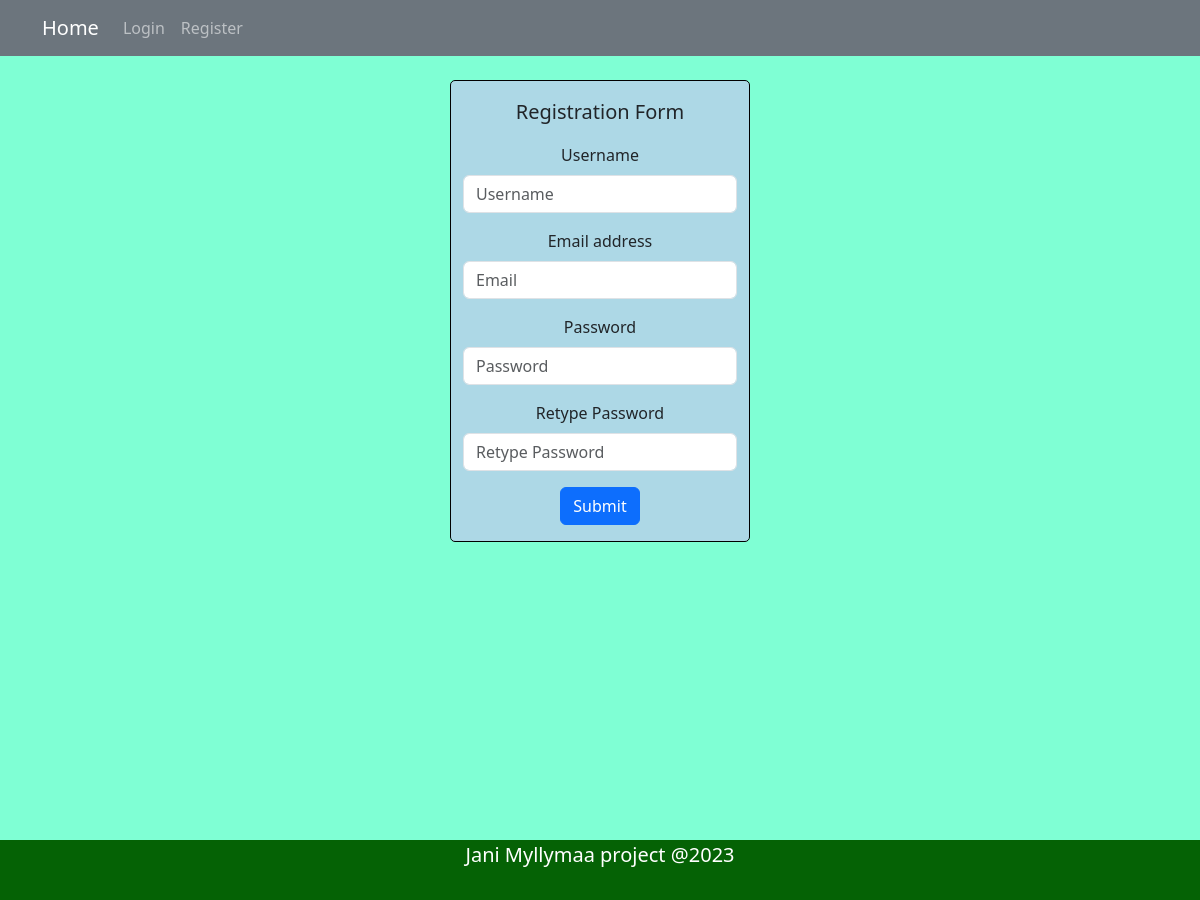
Test case: User routes tests › Try to register user with false inputs
In the field with placeholder "Username": (600, 194) [463,175,737,213], type "test"
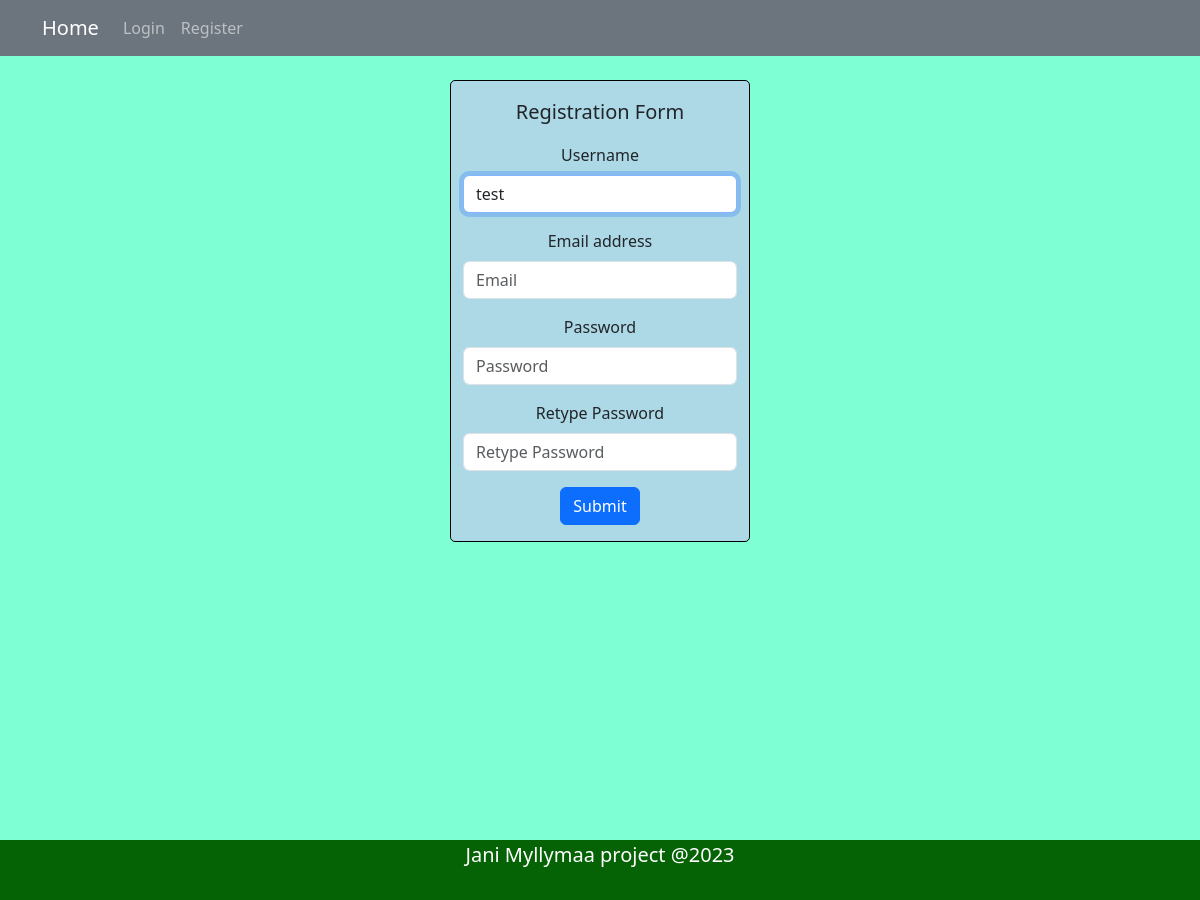
In the field with placeholder "Email": (600, 280) [463,261,737,299], type "testguy"
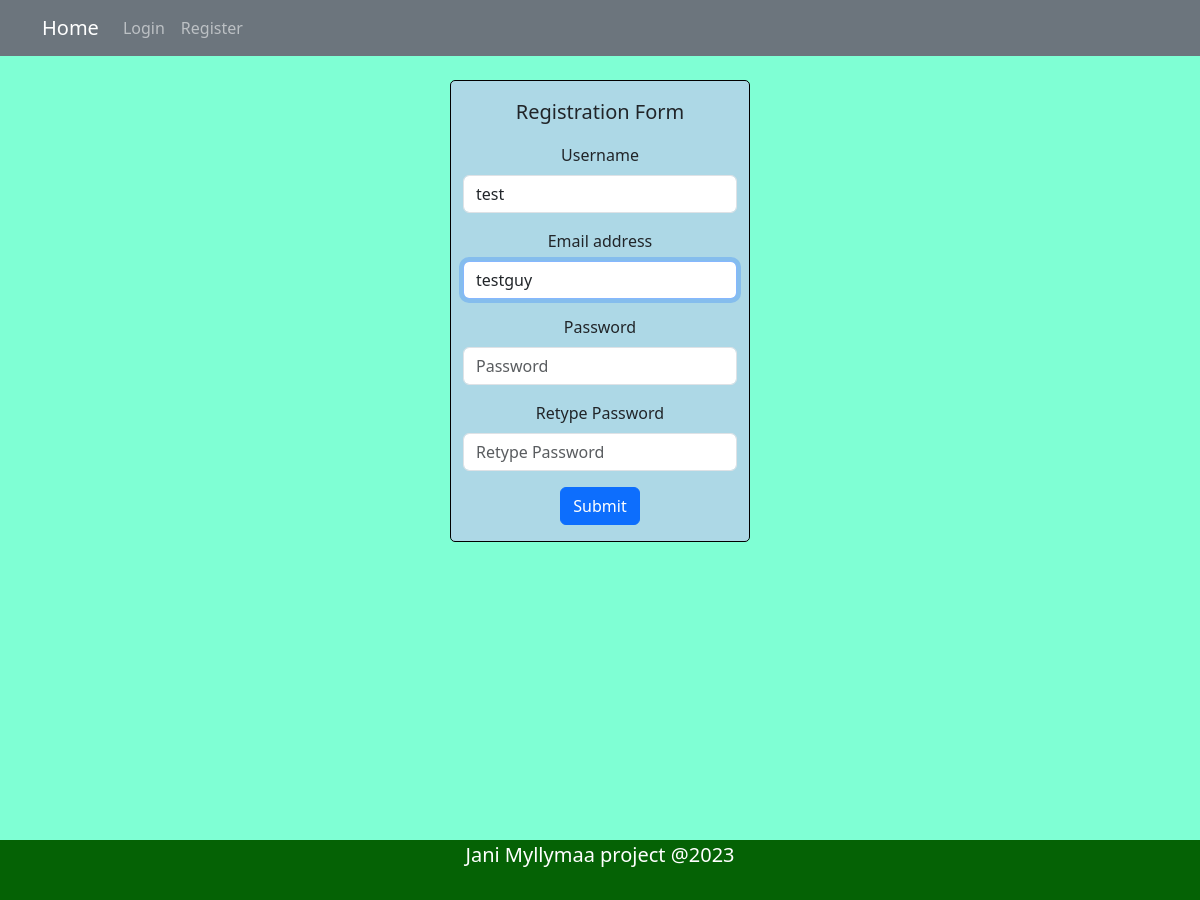
In the password field with placeholder "Password": (600, 366) [463,347,737,385], type "password"
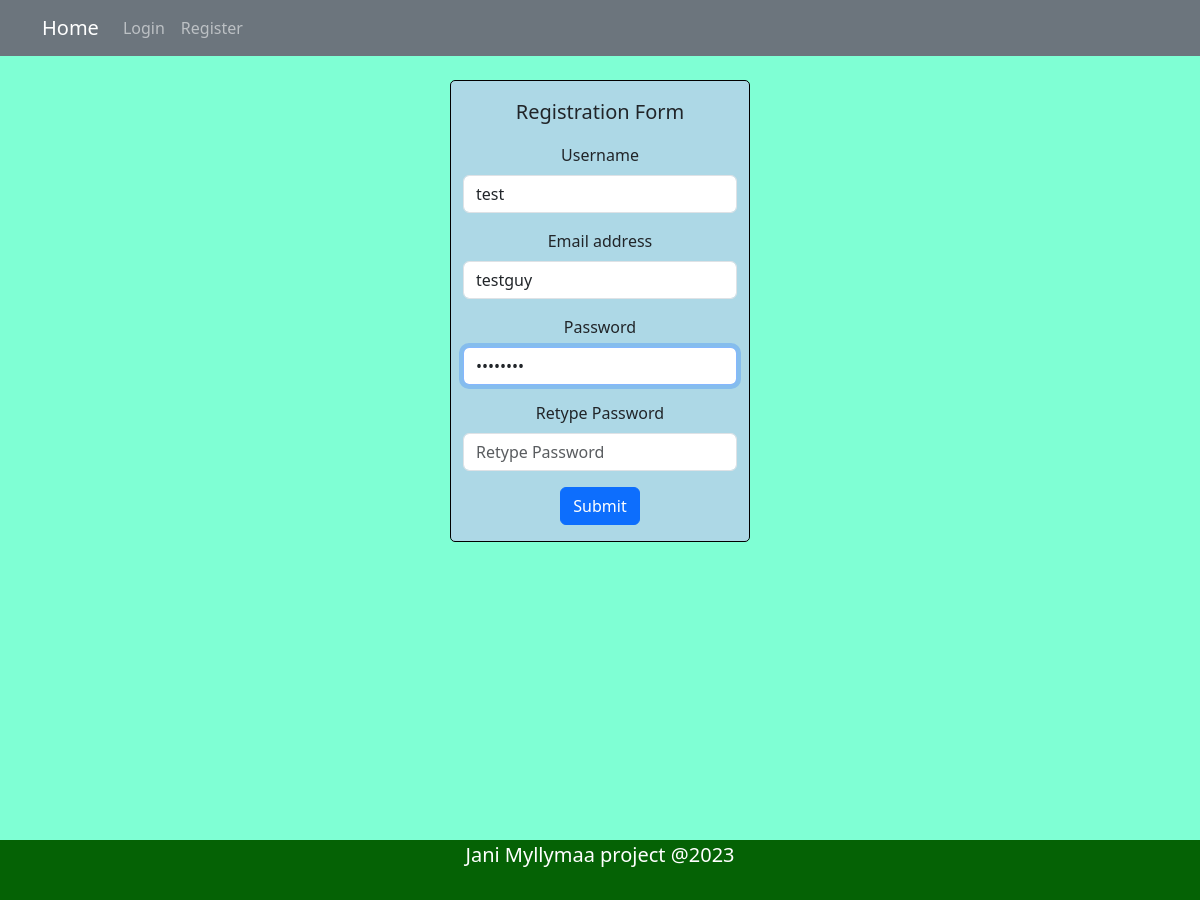
In the password field with placeholder "Retype Password": (600, 452) [463,433,737,471], type "password1"
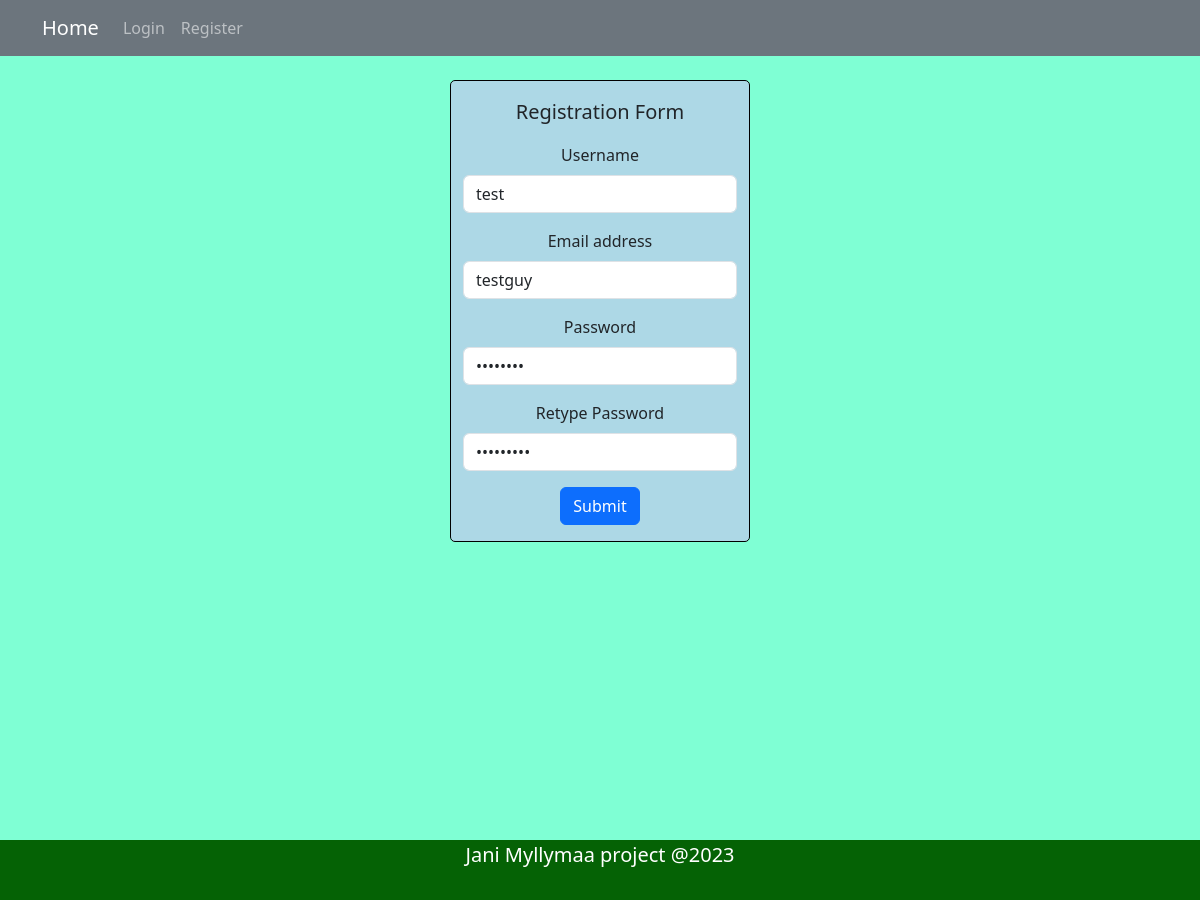
Click the submit button: click(600, 506) [560,487,639,525]
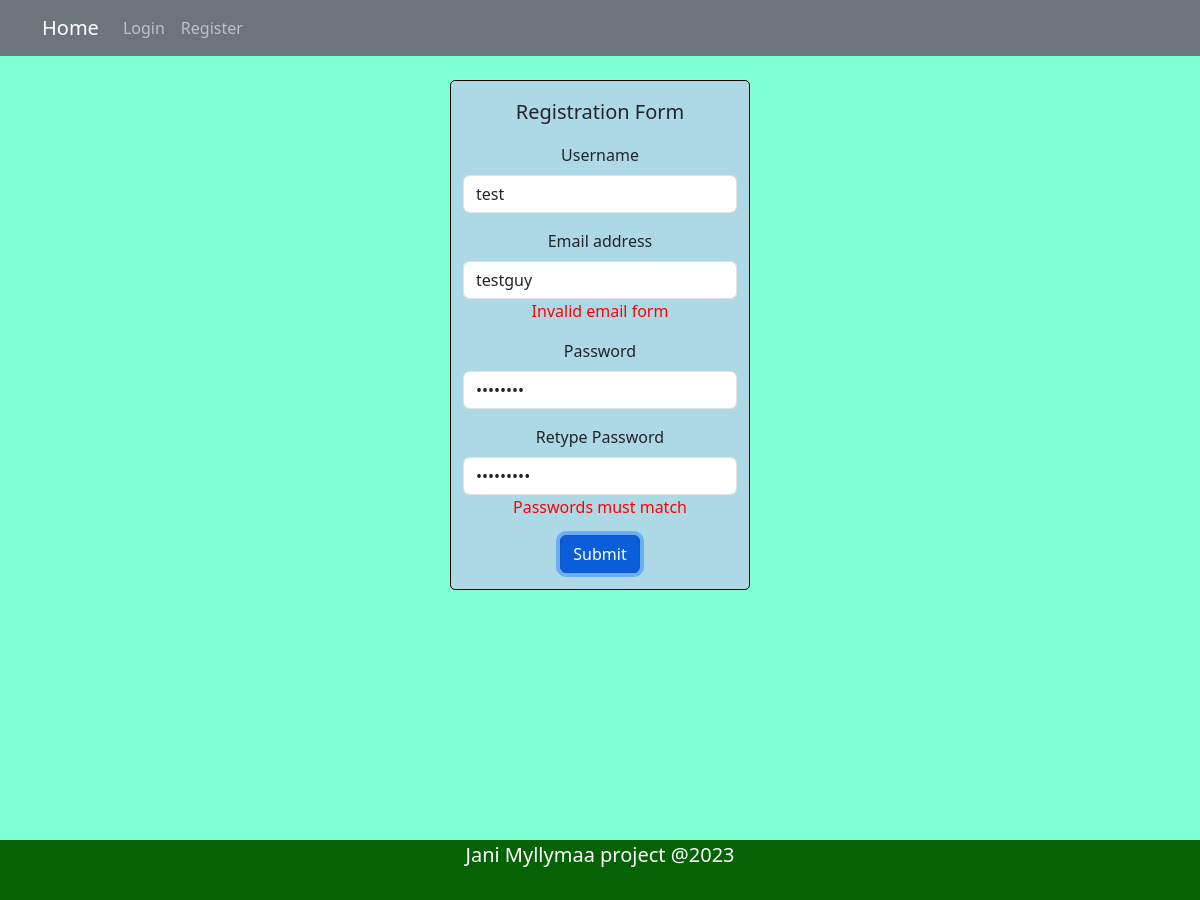
Result: the text "Invalid email form" is shown at [532,300,668,322]
Result: the text "Passwords must match" is shown at [513,496,687,518]
